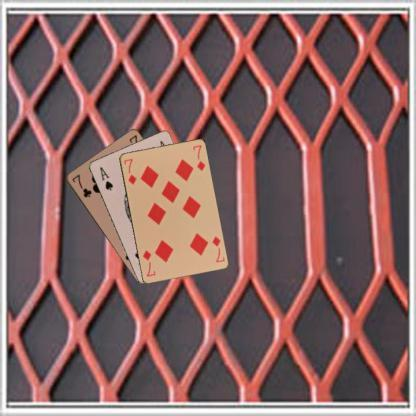7c: (70, 172, 92, 198)
7d: (122, 156, 138, 186), (209, 234, 225, 264)
As: (97, 164, 114, 192)
